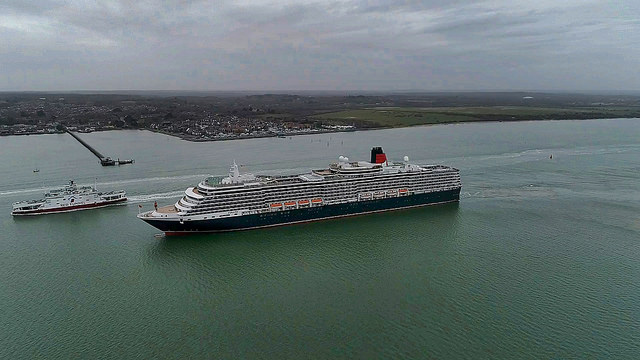cruise_ship: (137, 144, 466, 239), (13, 178, 127, 212)
